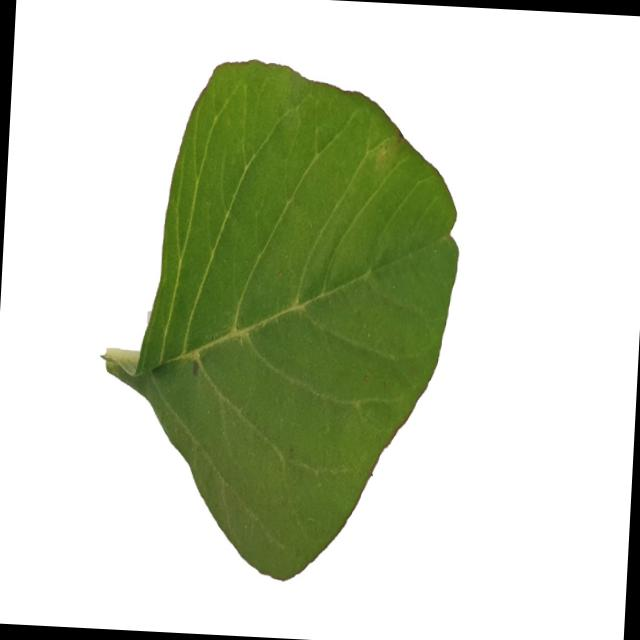Medicinal-Arive Dantu: (92, 51, 469, 588)
